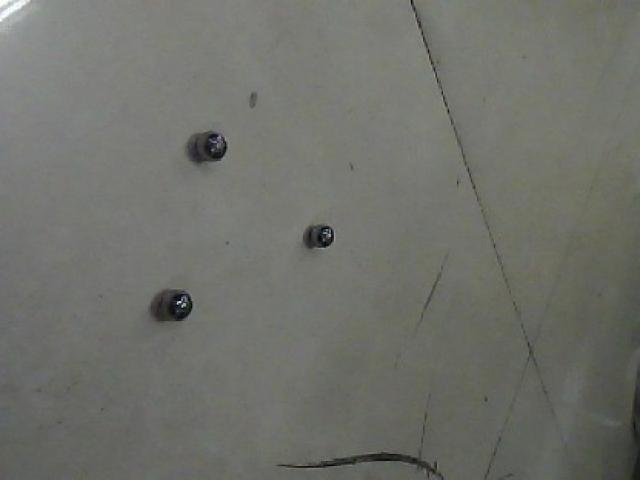steel-ball: (289, 202, 360, 283), (132, 264, 208, 339), (184, 112, 242, 171)
